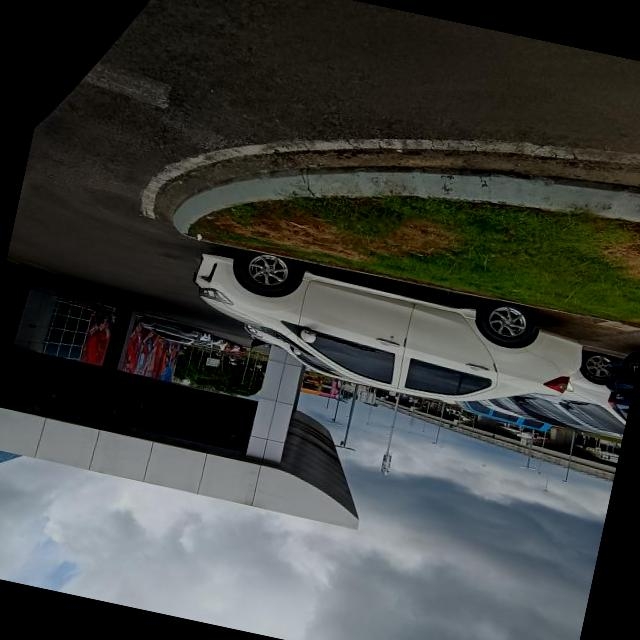PeroduaBezza: (177, 236, 592, 430)
